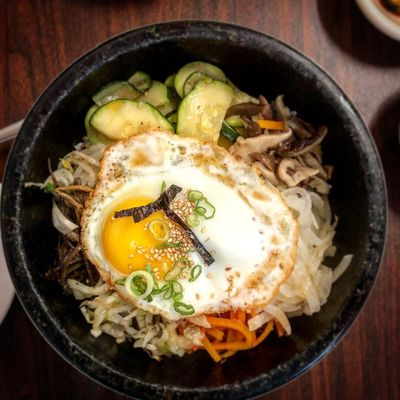sushi: (0, 13, 374, 398)
